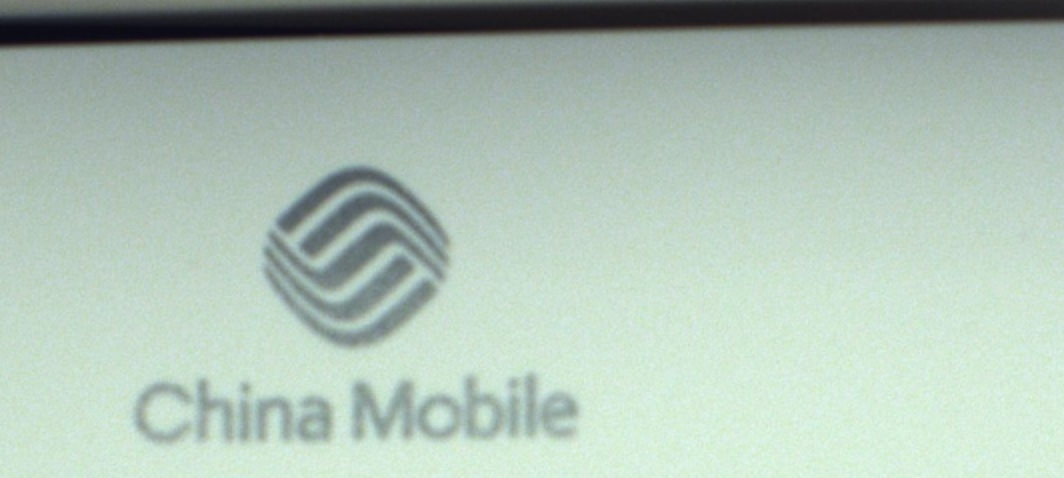AA_ChinaMobile: (122, 164, 579, 450)
